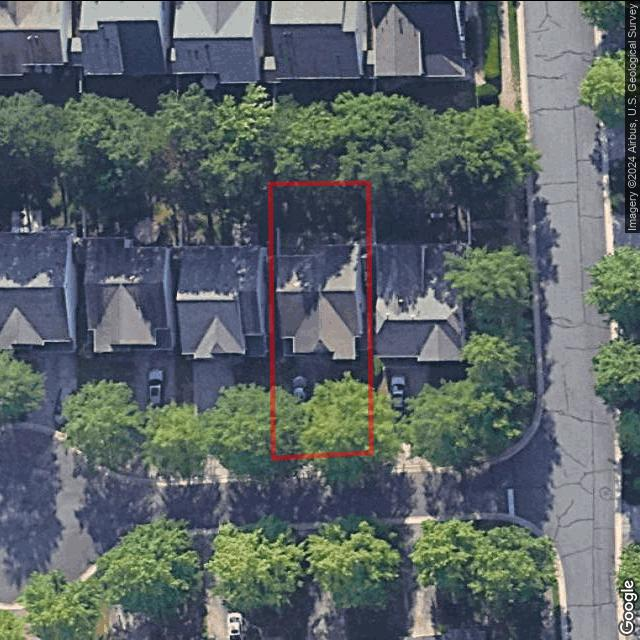Driveway: (286, 354, 324, 456)
Extra-Driveway: (288, 455, 325, 478)
Extra-Lawn: (324, 452, 372, 476), (274, 456, 289, 478)
House: (276, 232, 363, 359)
Lawn: (271, 182, 372, 457)
Sidewalk: (323, 337, 365, 370)
